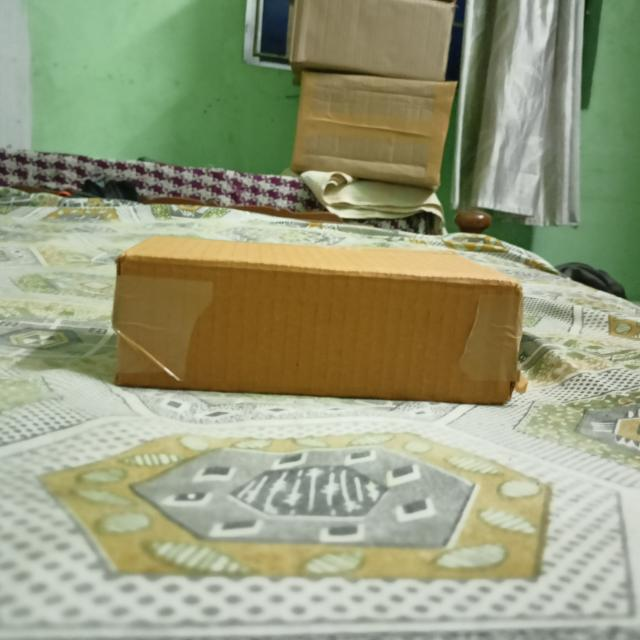box: (115, 258, 517, 404)
